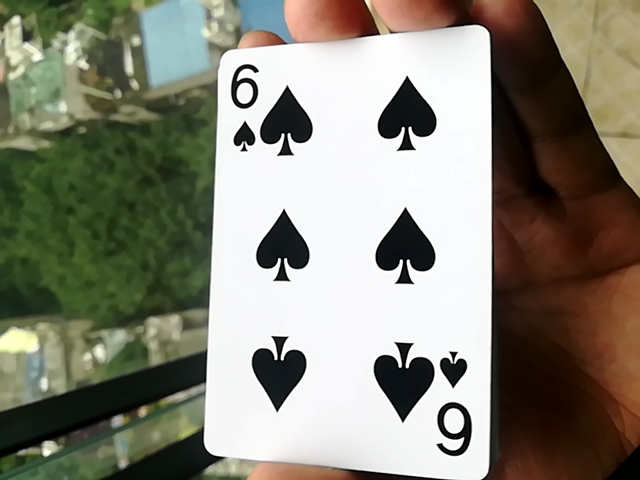ht 6: (204, 20, 486, 480)
